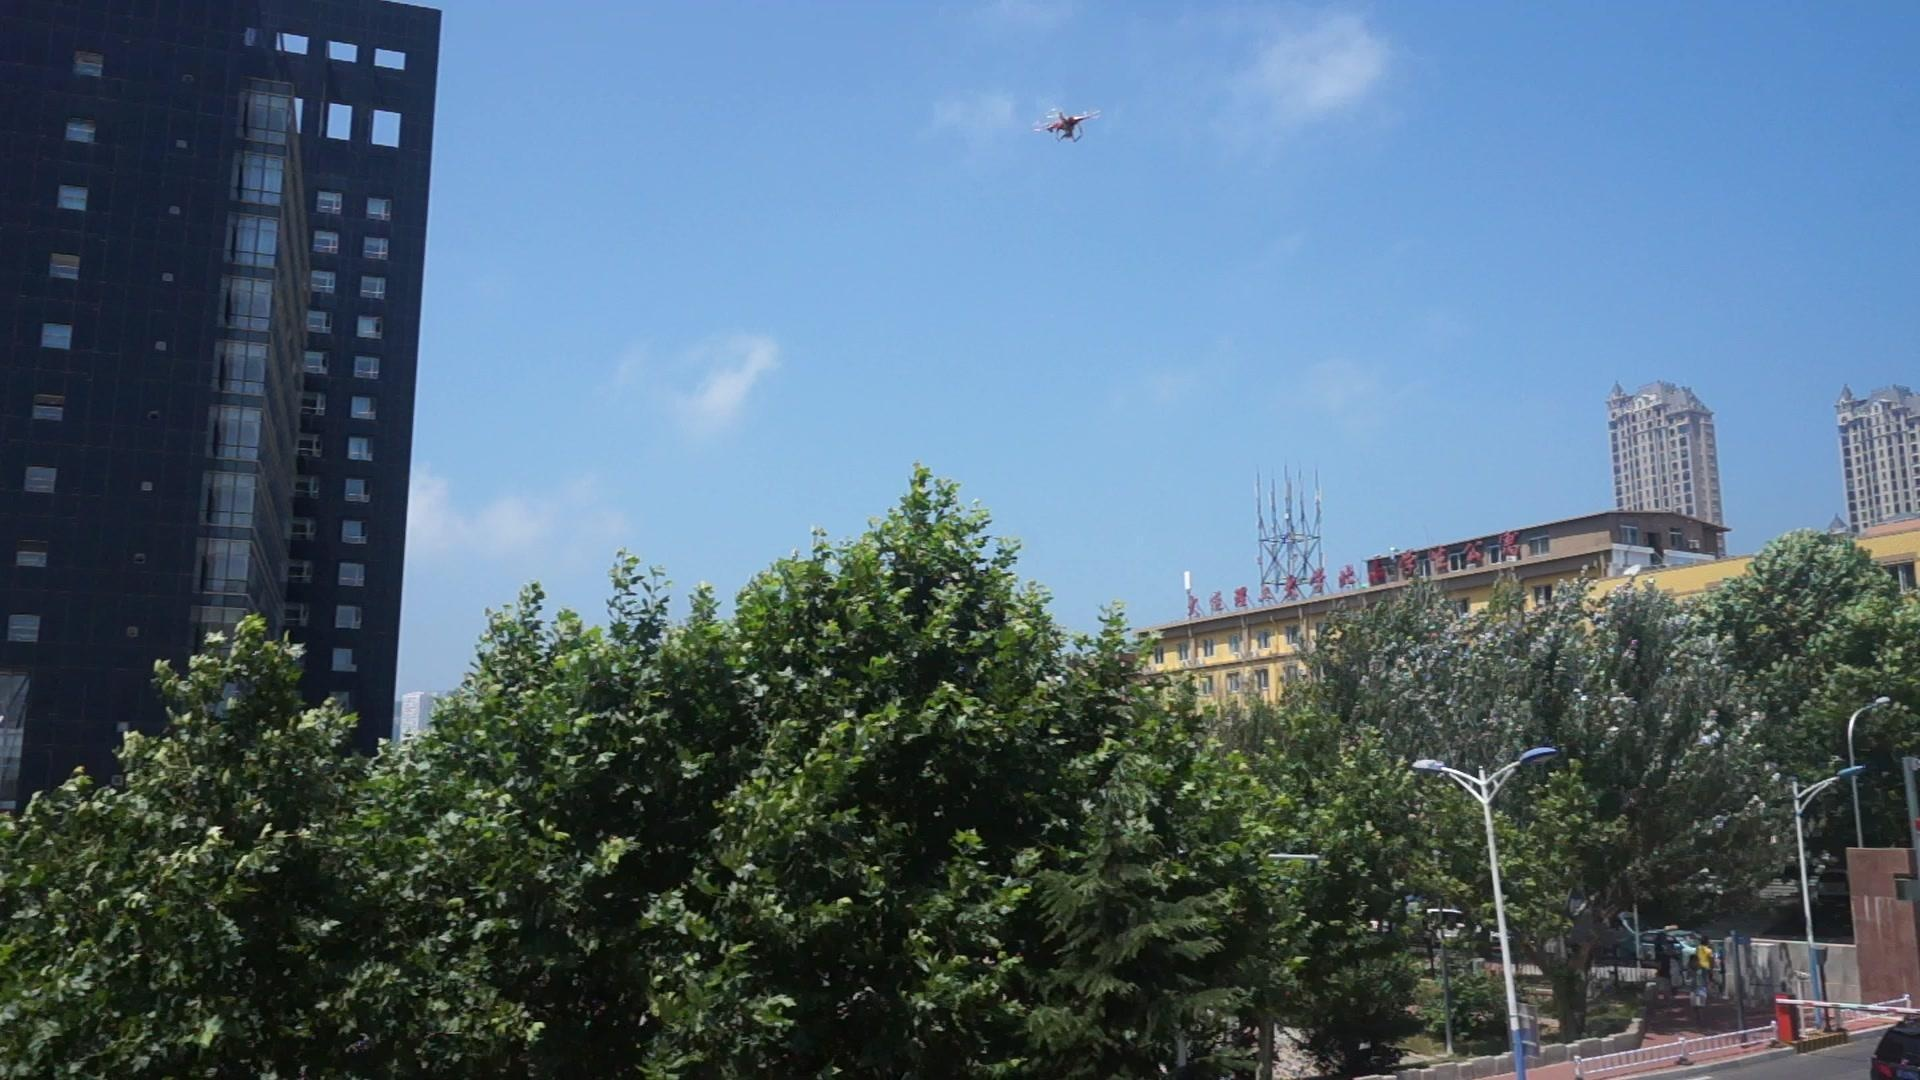UAV: (1033, 109, 1102, 144)
